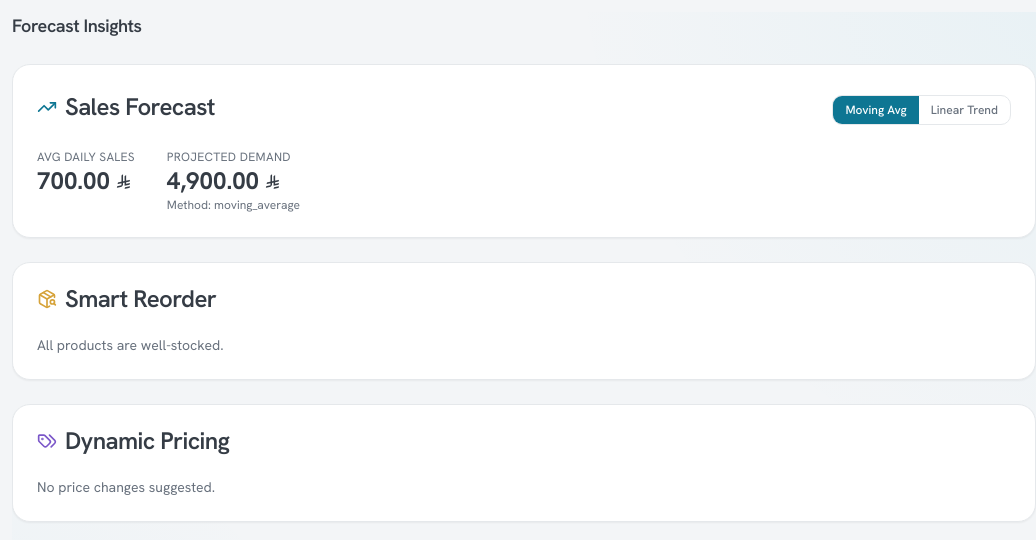
Test case: ForecastInsights sales-method toggle (#228 linear-trend surface) › surfaces a negative daily trend as a Falling direction
The width and height of the screenshot is (1036, 540).
Check: the text "Avg Daily Sales" is shown, box [37,149,135,165]
Click the button "Linear Trend": (964, 110) [919,96,1010,124]
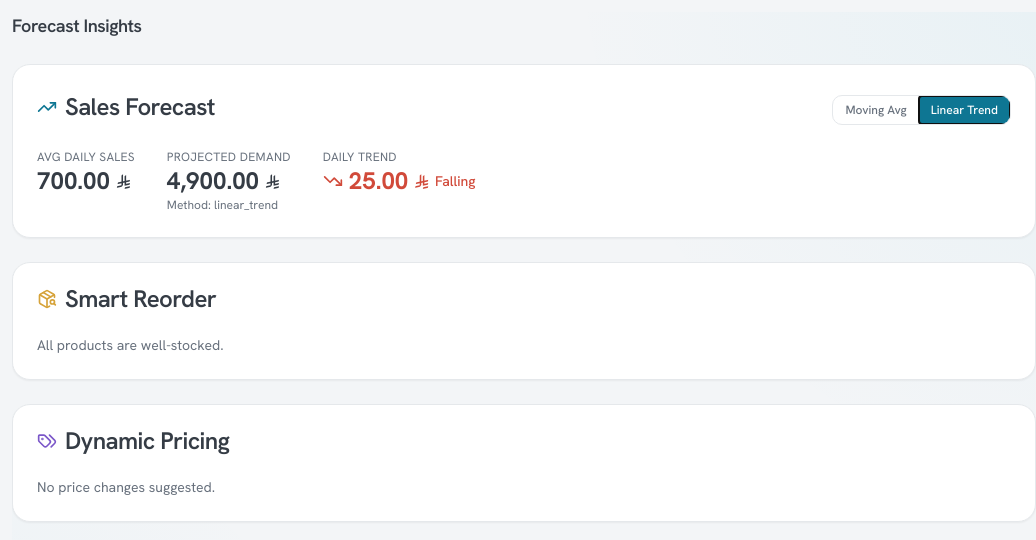
Check: the text "Falling" is shown, box [435,171,476,191]
